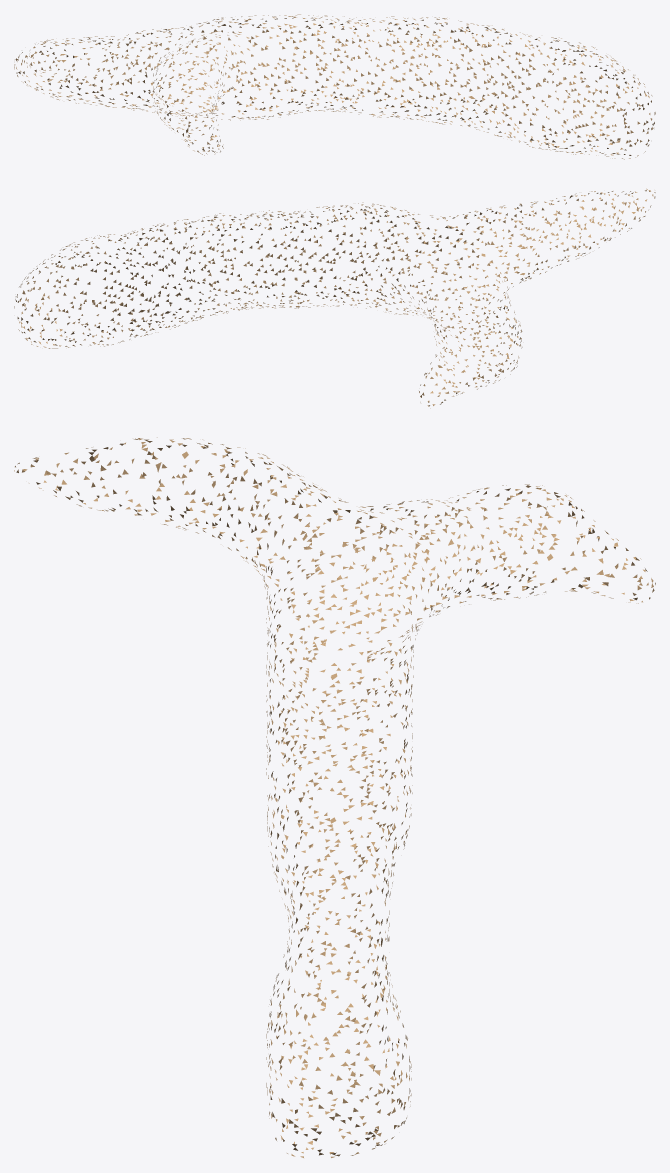
Rendered from morph_006.glb.
The picture shows the model from 3 angles, top to bottom: view 1: azimuth 30°, elevation 25°; view 2: azimuth 150°, elevation 25°; view 3: azimuth 270°, elevation 25°; orthographic projection. The views are drawn at different scales.
Size of the model in its own units: 121 by 47.57 by 77.84.
